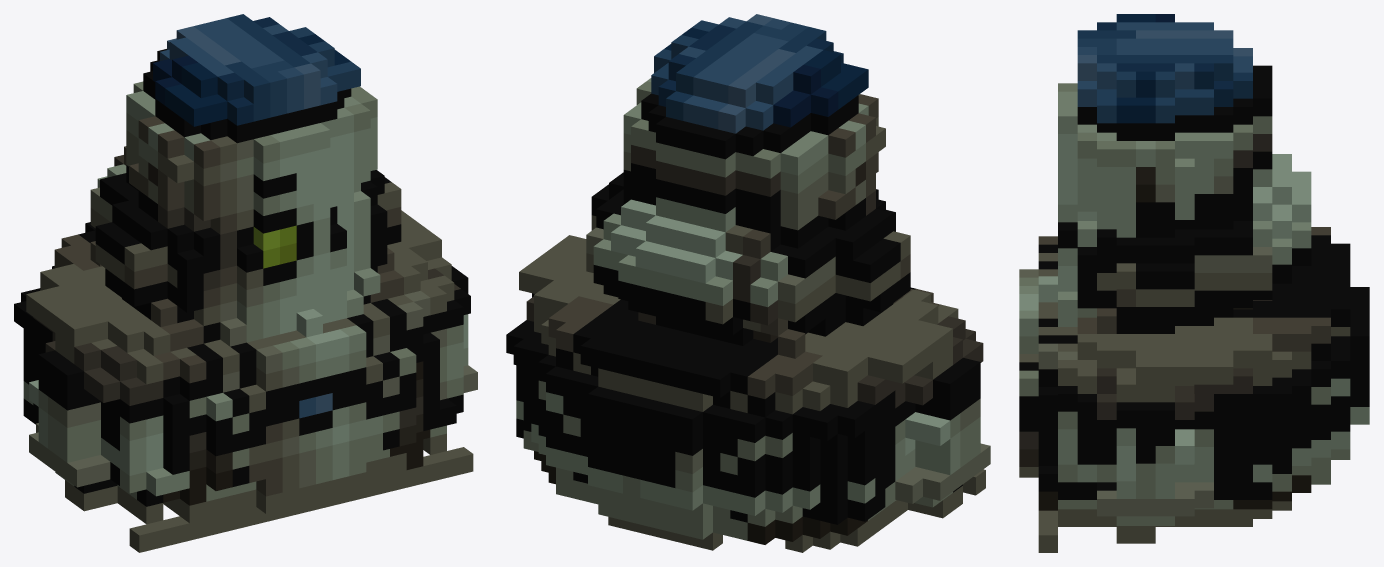
The model's file is Icon_748_03.obj.
3 views of the same model, side by side, from view 1: azimuth 30°, elevation 25°; view 2: azimuth 150°, elevation 25°; view 3: azimuth 270°, elevation 25° (orthographic). The views are drawn at different scales.
Bounding box in the file's own units: 2.4 × 2.4 × 1.8.
